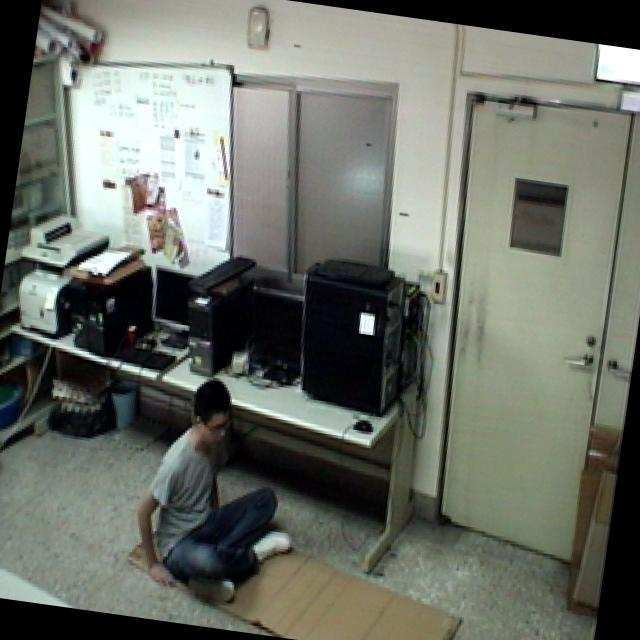sit: (121, 355, 318, 623)
